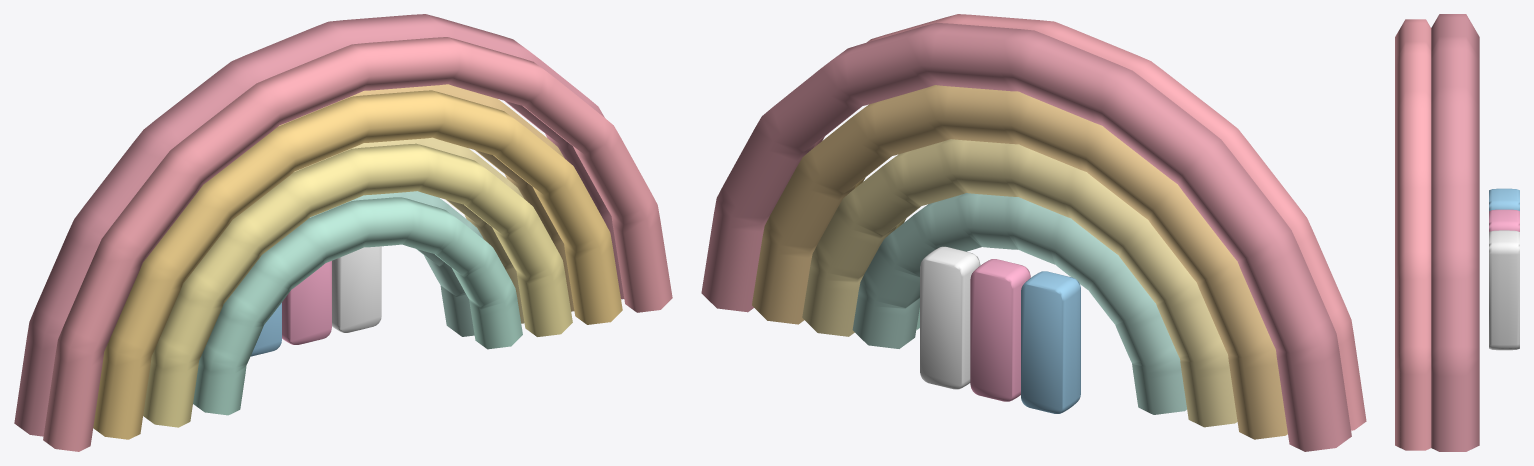
File: decor_3_classic.glb
3 renders of one model, left to right at view 1: azimuth 30°, elevation 25°; view 2: azimuth 150°, elevation 25°; view 3: azimuth 270°, elevation 25°, orthographic. The views are drawn at different scales.
Visible parts, largest first — view 1: decor_3_classic; view 2: decor_3_classic; view 3: decor_3_classic.
Boxes of the visible parts, left/top/right/bottom form: decor_3_classic: left=14, top=14, right=672, bottom=451; decor_3_classic: left=701, top=14, right=1366, bottom=451; decor_3_classic: left=1395, top=14, right=1519, bottom=451.
Size of the model in its own units: 15.11 by 7.65 by 3.03.
